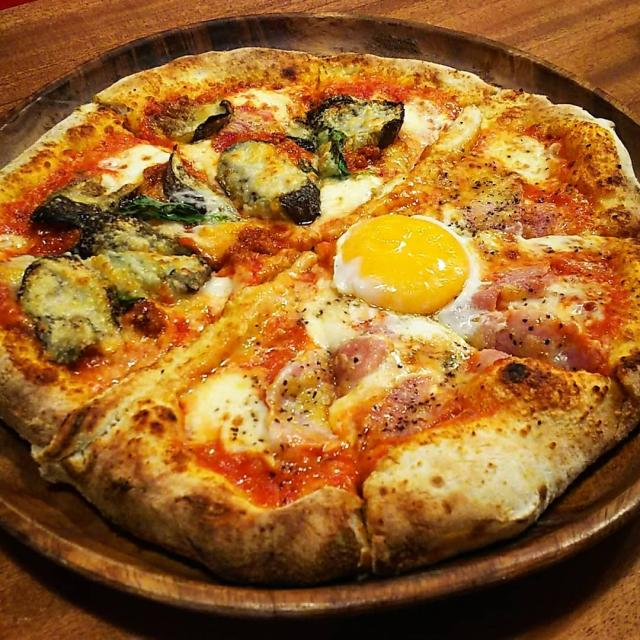basil: (124, 191, 226, 223), (300, 122, 352, 182), (110, 293, 142, 323)
pizza: (0, 48, 640, 593)
